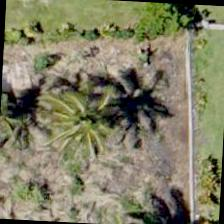Kelapa_Sawit: (37, 77, 132, 172), (0, 85, 48, 178)
